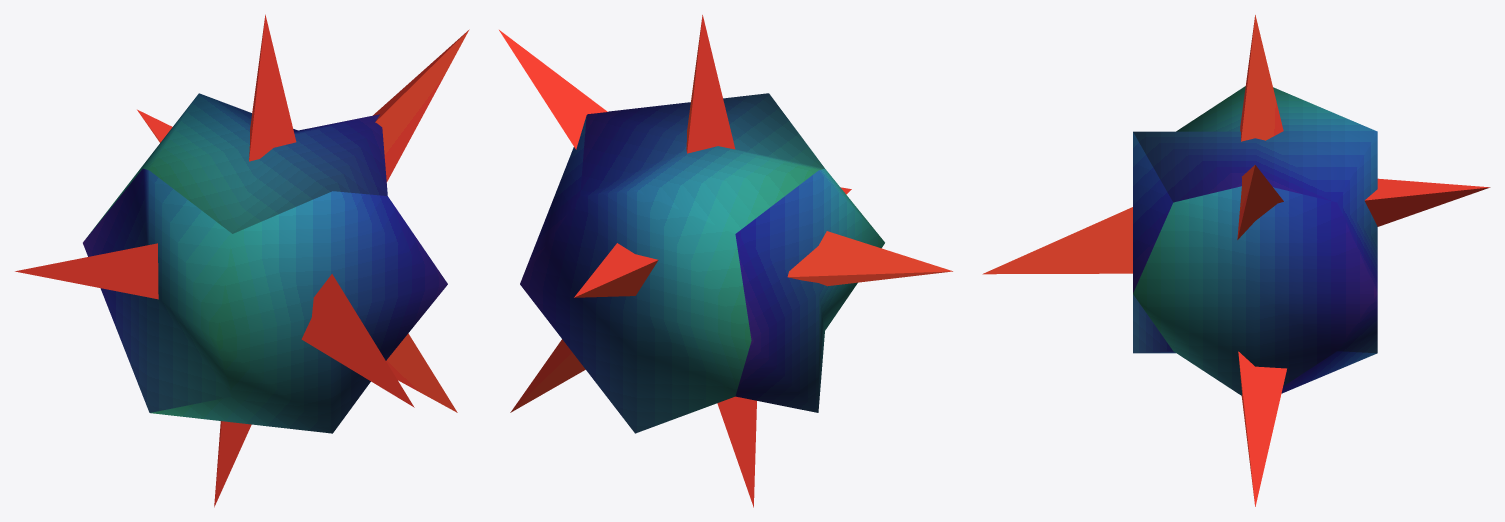
Rendered from spikeball.fbx.
3 views of the same model, side by side, from view 1: azimuth 30°, elevation 25°; view 2: azimuth 150°, elevation 25°; view 3: azimuth 270°, elevation 25° (orthographic). The views are drawn at different scales.
Visible parts, largest first — view 1: spikeballMesh; view 2: spikeballMesh; view 3: spikeballMesh.
Part boxes in pixels (x1,y1,x2,y2): spikeballMesh: (15,14,469,507); spikeballMesh: (499,15,952,507); spikeballMesh: (982,15,1490,506).
Bounding box in the file's own units: 393 × 397 × 416.
